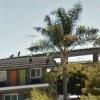Tree: (48, 13, 100, 100)
